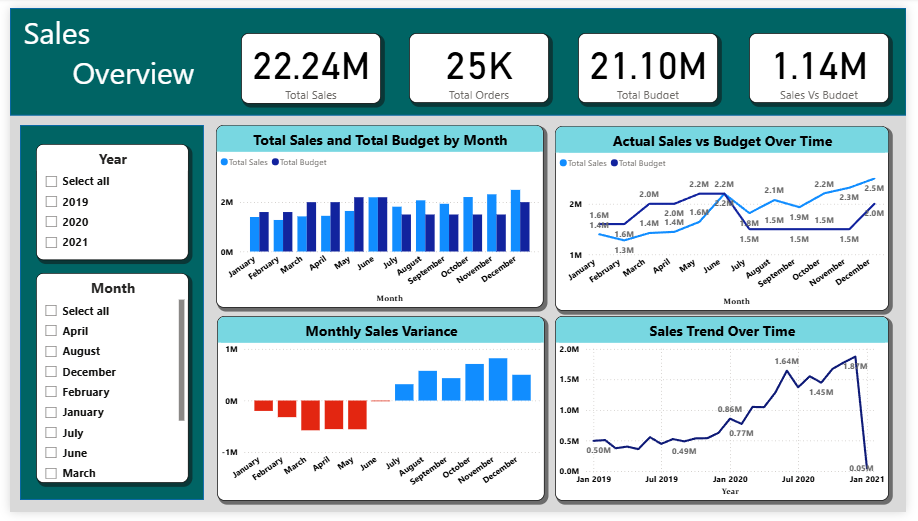

What the dashboard file says about the page in this screenshot:
{"tool":"powerbi","page":{"name":"Sales Overview Dashboard","canvas":[1280,720],"ordinal":0},"visuals":[{"type":"shape","title":"Background 2","box":[0,0,1280.4,153.6],"z":0,"group":"g1"},{"type":"shape","title":"Background 1","box":[14.3,167.9,262.5,535.7],"z":1000,"group":"g1"},{"type":"group","id":"g1","title":"Group 2","box":[0,0,1280.4,703.6],"z":1500},{"type":"clusteredColumnChart","fields":{"Y":["FACT_InternetSales.Total Sales","SalesBudget_Clean.Total Budget"],"Category":["DIM_Calendar.Date.Variation.Date Hierarchy.Month"]},"box":[294.6,167.9,467.9,260.7],"z":2000},{"type":"lineChart","title":"Sales Trend Over Time","fields":{"Y":["FACT_InternetSales.Total Sales"],"Category":["DIM_Calendar.Date.Variation.Date Hierarchy.Year","DIM_Calendar.Date.Variation.Date Hierarchy.Month"]},"box":[779,440.6,476.6,263.5],"z":3000},{"type":"slicer","title":"Year","fields":{"Values":["DIM_Calendar.Year"]},"box":[37.5,194.6,217.9,166.1],"z":4000},{"type":"slicer","title":"Month","fields":{"Values":["DIM_Calendar.Month"]},"box":[37.5,378.6,217.9,300],"z":5000},{"type":"clusteredColumnChart","title":"Monthly Sales Variance ","fields":{"Y":["FACT_InternetSales.Sales Vs Budget"],"Category":["DIM_Calendar.Date.Variation.Date Hierarchy.Month"]},"box":[295.2,440.6,468,263.5],"z":6000},{"type":"lineChart","title":"Actual Sales vs Budget Over Time","fields":{"Y":["FACT_InternetSales.Total Sales","SalesBudget_Clean.Total Budget"],"Category":["DIM_Calendar.Date.Variation.Date Hierarchy.Month"]},"box":[779,168.5,476.6,263.5],"z":7000},{"type":"textbox","title":"Title","box":[14.4,0,301,154.1],"z":9000},{"type":"card","title":"Card 4","fields":{"Values":["FACT_InternetSales.Sales Vs Budget"]},"box":[1055.3,35.7,200,100],"z":9500,"group":"g2"},{"type":"group","id":"g2","title":"Group 1","box":[329.8,35.7,925.5,101],"z":10000},{"type":"card","title":"Card 2","fields":{"Values":["FACT_InternetSales.Total Orders"]},"box":[569.6,35.7,200,100],"z":10000,"group":"g2"},{"type":"card","title":"Card 3","fields":{"Values":["SalesBudget_Clean.Total Budget"]},"box":[810.7,35.7,200,100],"z":11000,"group":"g2"},{"type":"card","title":"Card 1","fields":{"Values":["FACT_InternetSales.Total Sales"]},"box":[329.8,35.9,199.9,100.8],"z":11500,"group":"g2"}]}

Visuals, with their boxes in screenshot pixels (x1, y1, x2, y2), scaled from the page's 1280x720 canvas onto the 918x521 screenshot:
"Background 2" shape: box(0, 0, 917, 111)
"Background 1" shape: box(10, 121, 199, 509)
"Group 2" group: box(0, 0, 917, 509)
clusteredColumnChart - FACT_InternetSales.Total Sales x SalesBudget_Clean.Total Budget: box(211, 121, 547, 310)
"Sales Trend Over Time" lineChart: box(559, 319, 901, 509)
"Year" slicer: box(27, 141, 183, 261)
"Month" slicer: box(27, 274, 183, 491)
"Monthly Sales Variance " clusteredColumnChart: box(212, 319, 547, 509)
"Actual Sales vs Budget Over Time" lineChart: box(559, 122, 901, 313)
"Title" textbox: box(10, 0, 226, 112)
"Card 4" card: box(757, 26, 900, 98)
"Group 1" group: box(237, 26, 900, 99)
"Card 2" card: box(409, 26, 552, 98)
"Card 3" card: box(581, 26, 725, 98)
"Card 1" card: box(237, 26, 380, 99)
